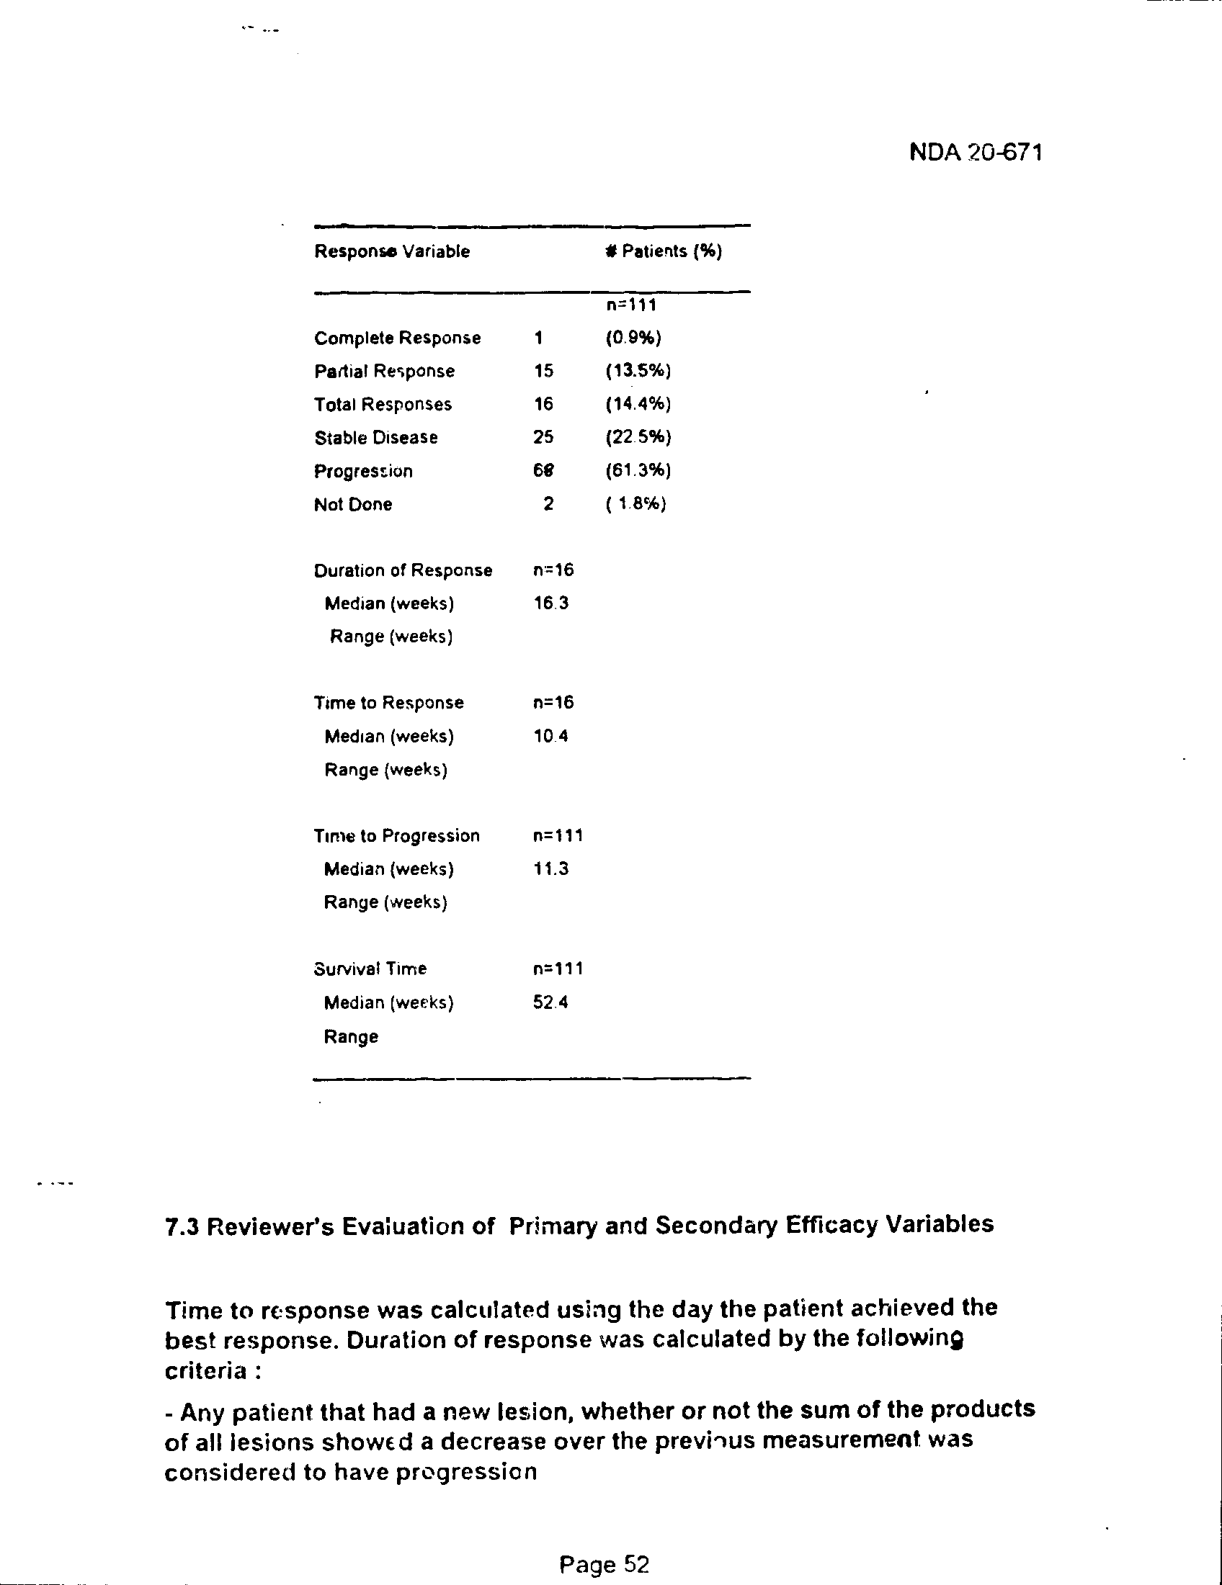partial_lined: (309, 225, 747, 1084)
